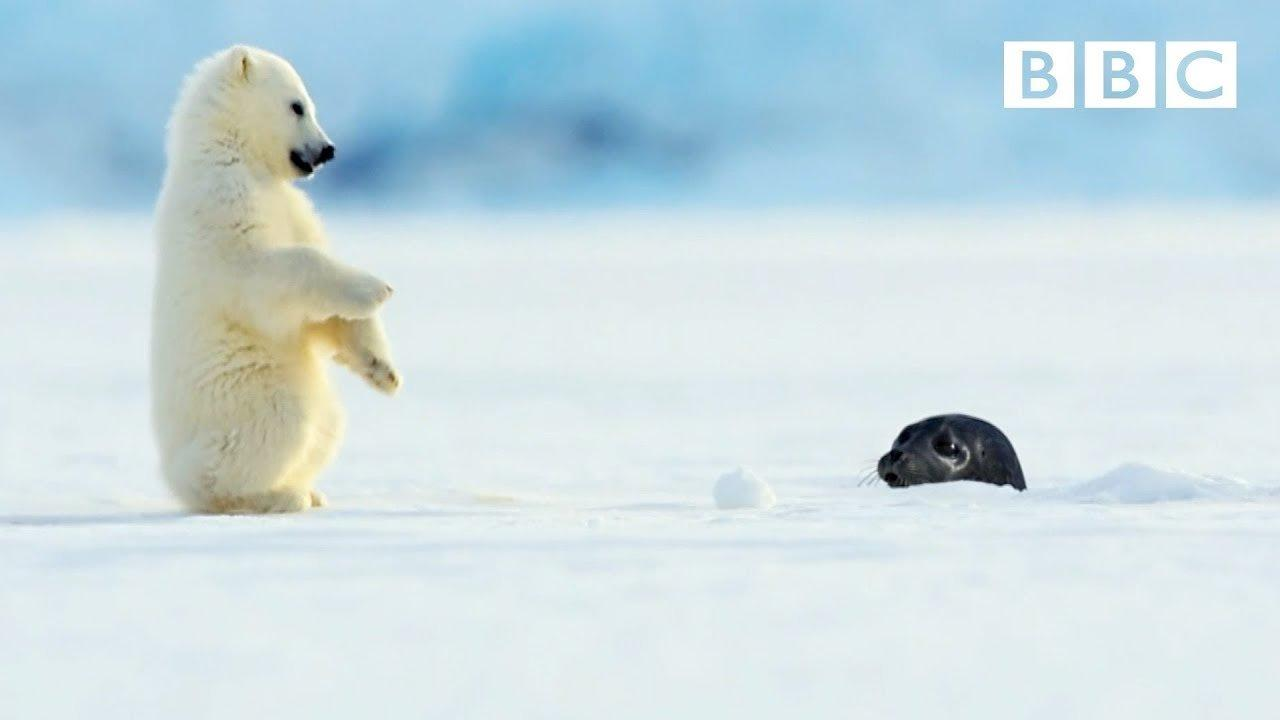bear: (149, 45, 401, 515)
